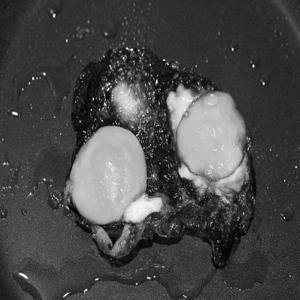omelet: (46, 42, 270, 280)
